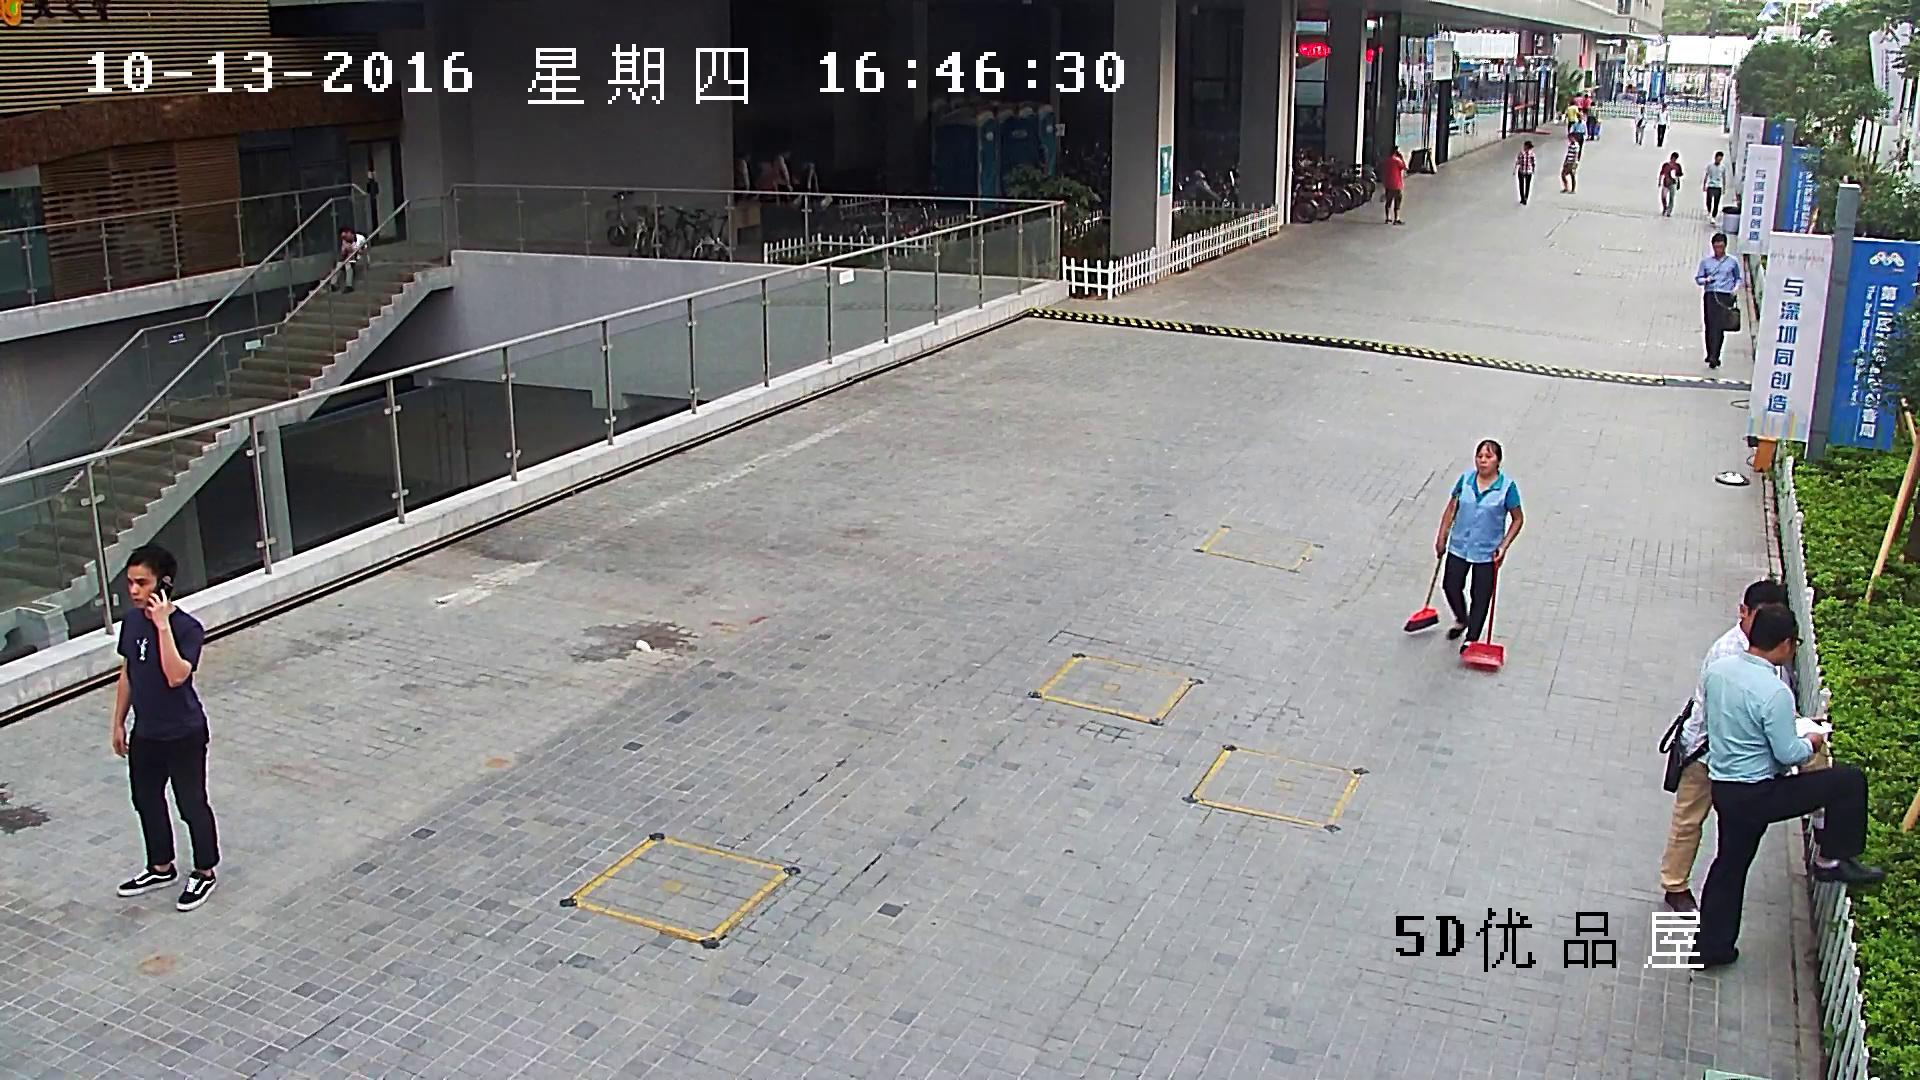person: (1679, 603, 1886, 970), (1659, 579, 1787, 920), (112, 545, 219, 911), (1404, 439, 1522, 672), (1435, 440, 1523, 653), (1694, 233, 1740, 368), (752, 147, 820, 205), (331, 225, 368, 293), (1380, 145, 1406, 225), (772, 147, 800, 205), (1702, 151, 1725, 224), (1658, 152, 1683, 216), (724, 148, 750, 203), (1512, 140, 1535, 205), (1559, 132, 1579, 193), (1653, 102, 1669, 146), (1585, 102, 1600, 140), (1635, 107, 1646, 144), (1564, 101, 1576, 133), (1572, 91, 1582, 110), (1582, 94, 1590, 113)
